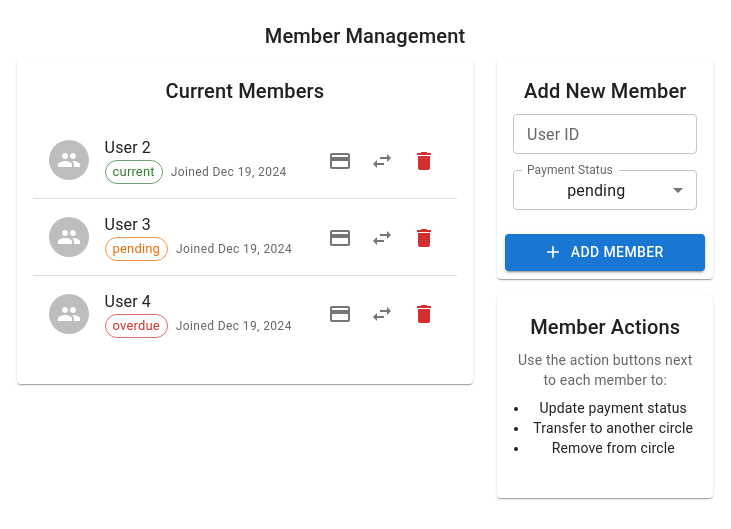
MemberManagementInterface › Add Member Functionality › should validate user ID input
Click the button "Add Member". click: (605, 252)
box: [505, 234, 705, 271]
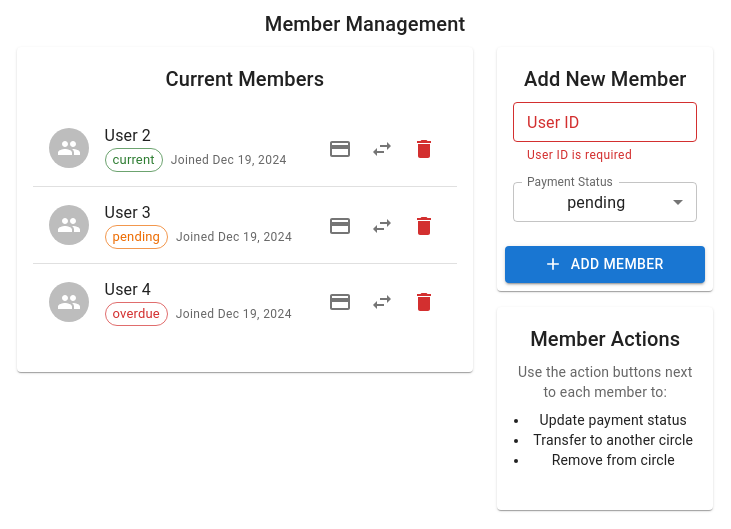
Result: the text "User ID is required" is shown at [527, 148, 632, 162]
